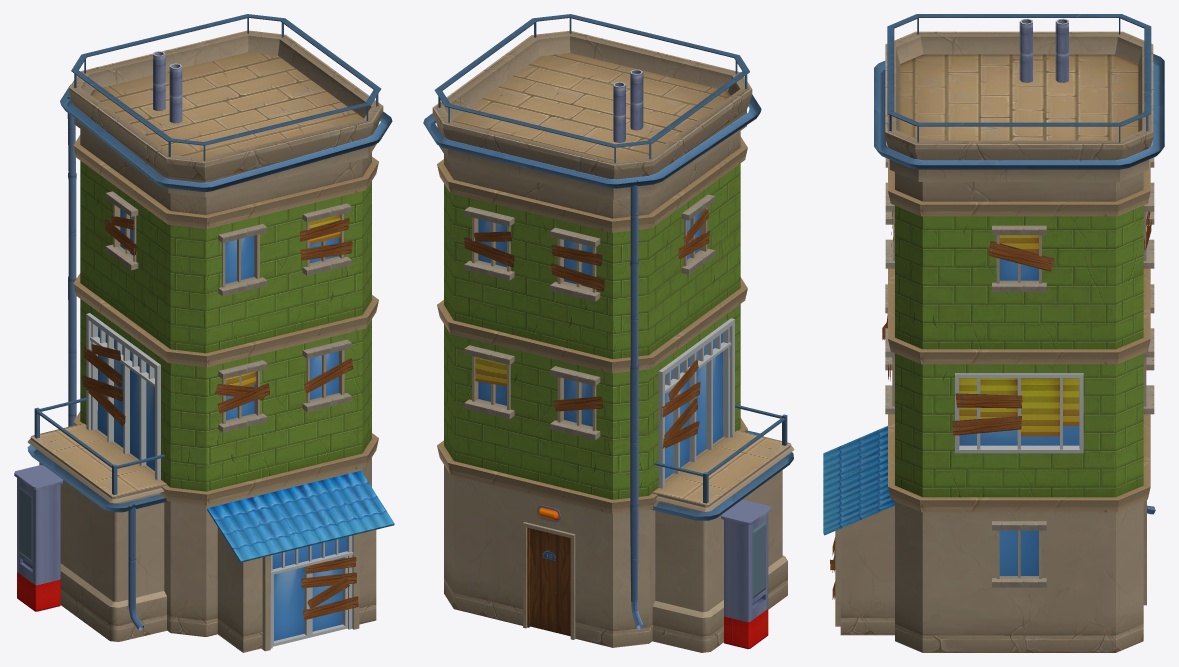
File: Building_02_2_LOD2.fbx
3 renders of one model, left to right at view 1: azimuth 30°, elevation 25°; view 2: azimuth 150°, elevation 25°; view 3: azimuth 270°, elevation 25°, orthographic. The views are drawn at different scales.
Visible parts, largest first — view 1: polySurface3664; view 2: polySurface3664; view 3: polySurface3664.
Part boxes in pixels (left/top/right/bottom): polySurface3664: left=14, top=14, right=394, bottom=652; polySurface3664: left=423, top=14, right=794, bottom=652; polySurface3664: left=823, top=14, right=1164, bottom=652.
Size of the model in its own units: 736 by 1211 by 673.
